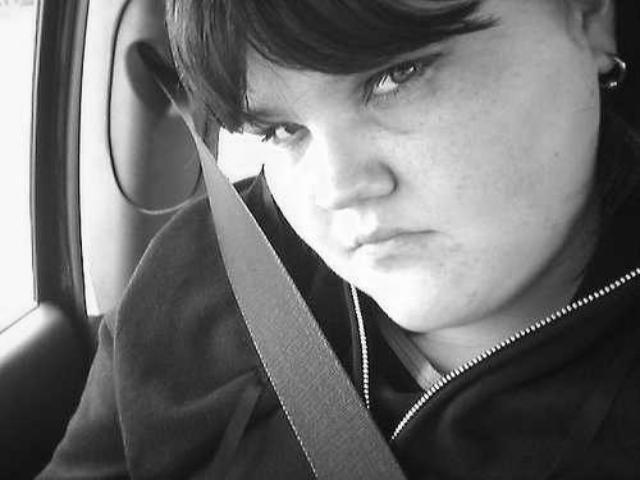SafeDriving: (354, 38, 446, 112), (242, 97, 322, 155)
Seatbelt: (134, 40, 408, 480)
